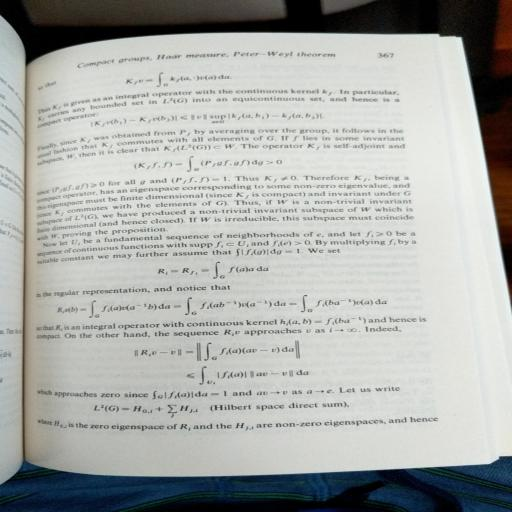paper: (33, 59, 488, 453)
